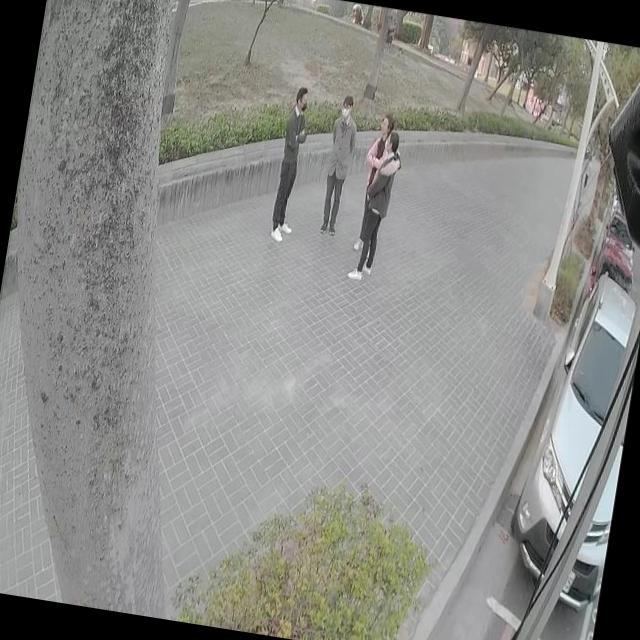person: (341, 123, 406, 290), (350, 107, 398, 256), (269, 82, 314, 240), (316, 92, 362, 234)
